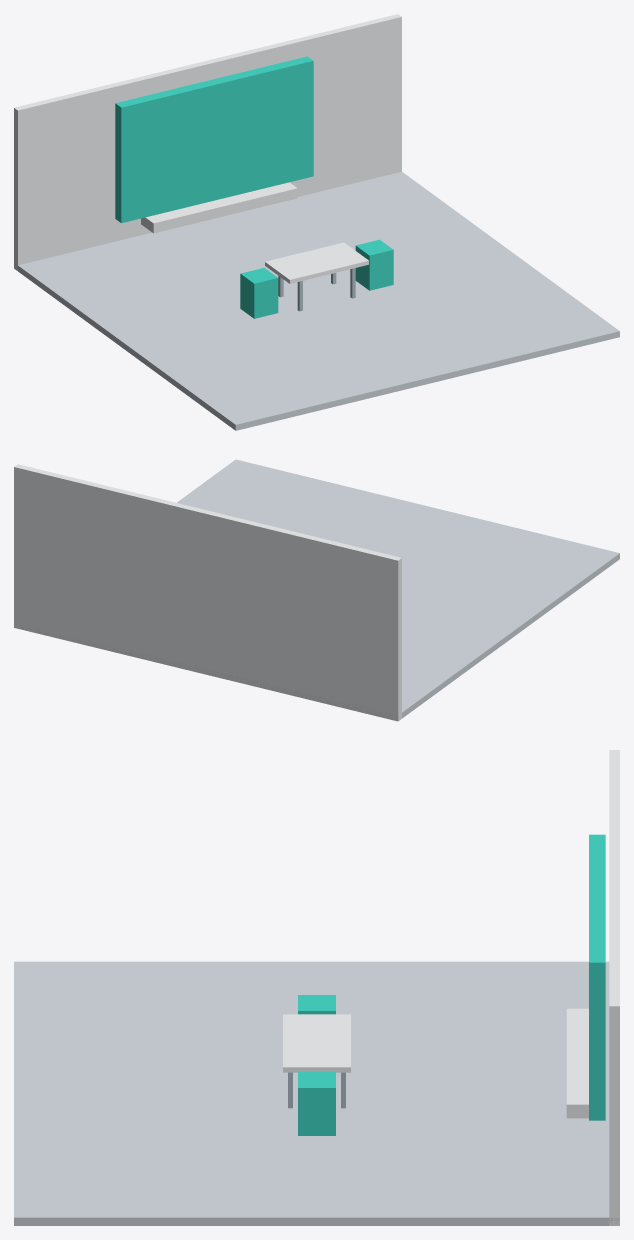
3 renders of one model, top to bottom at view 1: azimuth 30°, elevation 25°; view 2: azimuth 150°, elevation 25°; view 3: azimuth 270°, elevation 25°, orthographic. The views are drawn at different scales.
Visible parts, largest first — view 1: Exhibition Booth Concept; view 2: Exhibition Booth Concept; view 3: Exhibition Booth Concept.
Boxes of the visible parts, x1,y1,x2,y2 form: Exhibition Booth Concept: (14, 14, 619, 430); Exhibition Booth Concept: (14, 459, 619, 721); Exhibition Booth Concept: (14, 750, 619, 1225).
Bounding box in the file's own units: 8 × 3.2 × 8.
